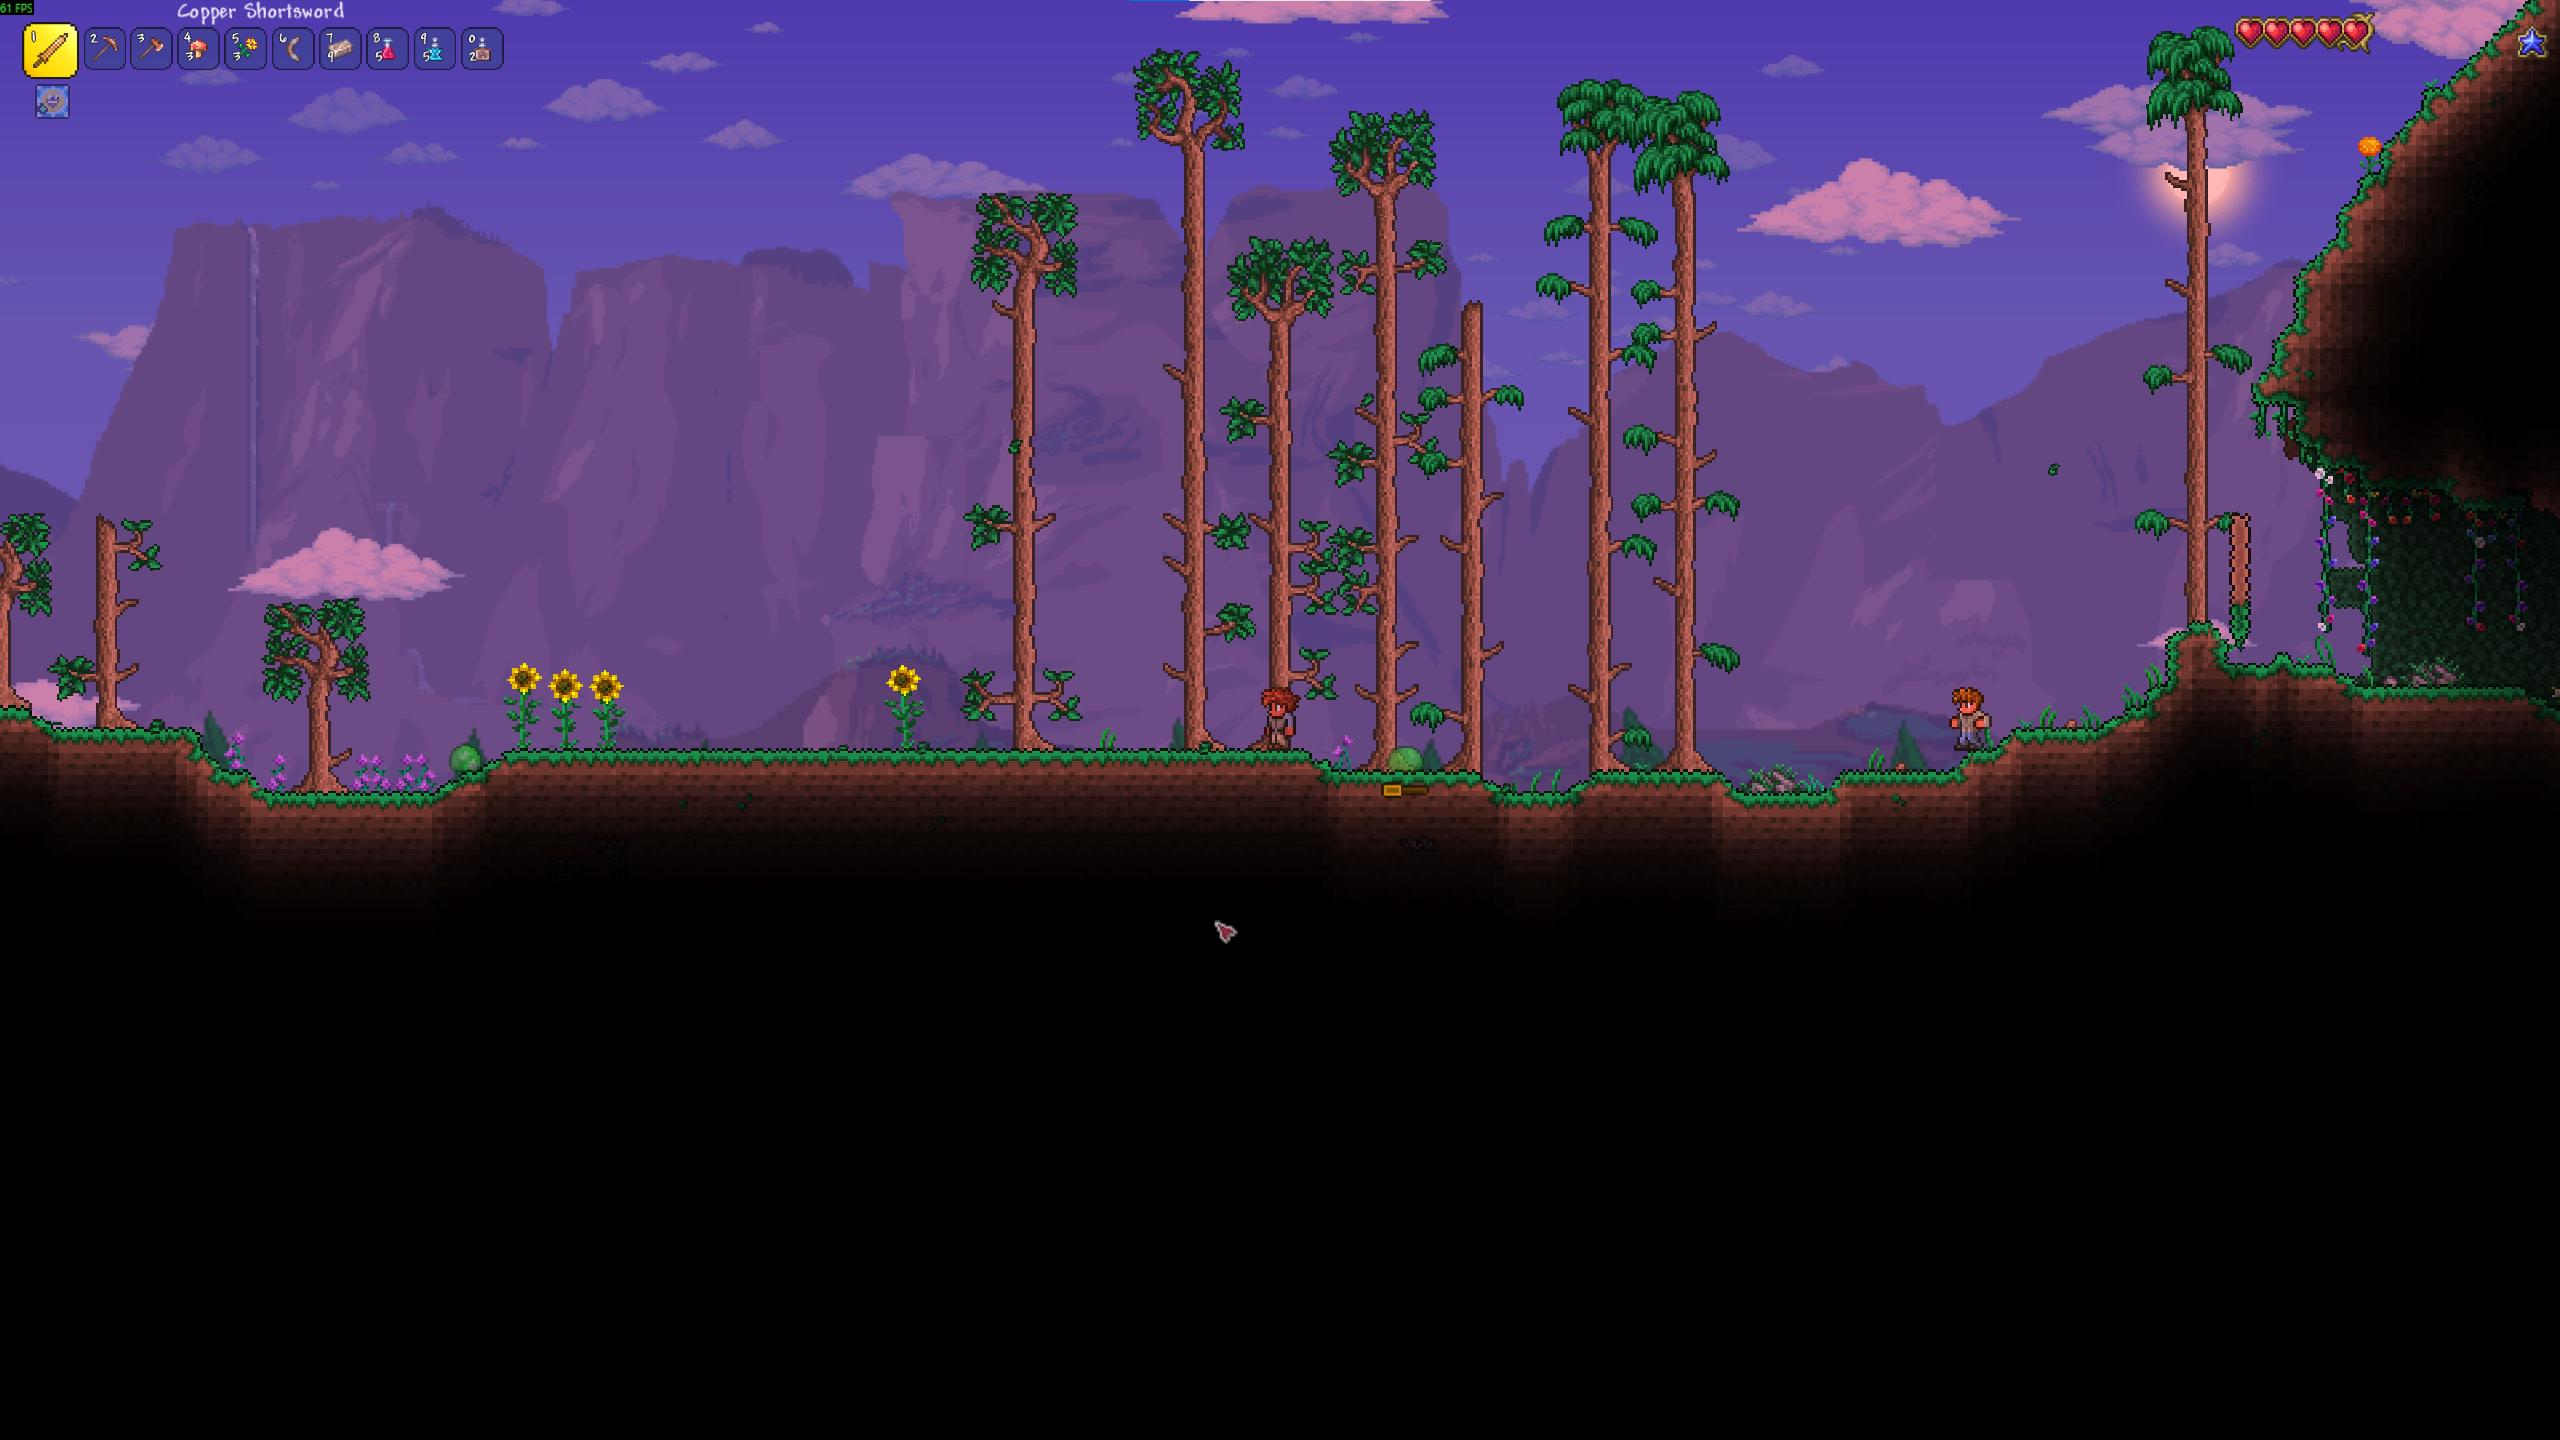Green Slime: (1384, 742, 1426, 774), (447, 742, 485, 774)
